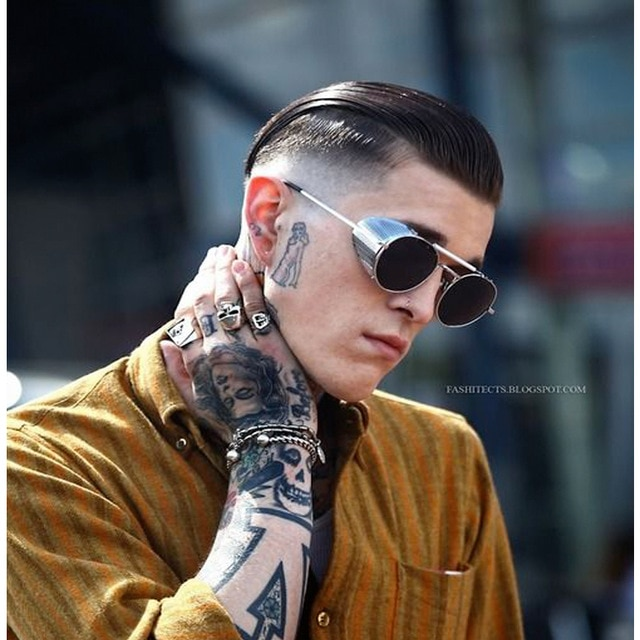sunglasses: (275, 172, 517, 323)
